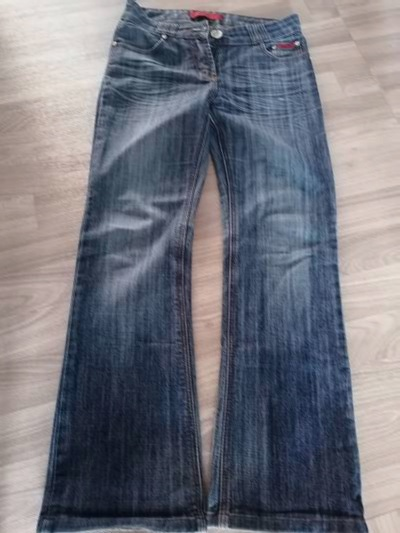Pants: (25, 9, 352, 532)
